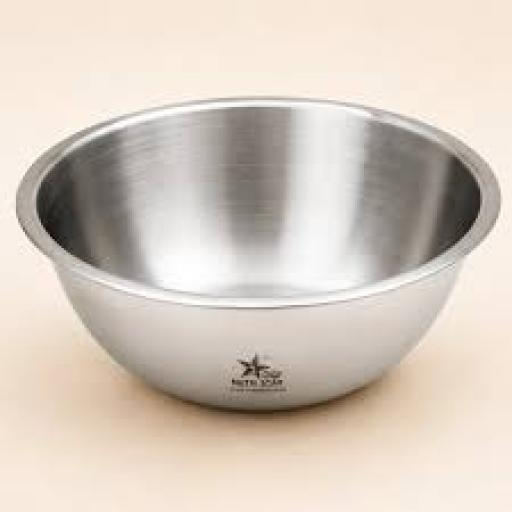Bowl: (18, 98, 498, 410)
